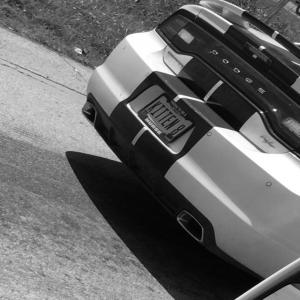Plate: (137, 94, 194, 143)
